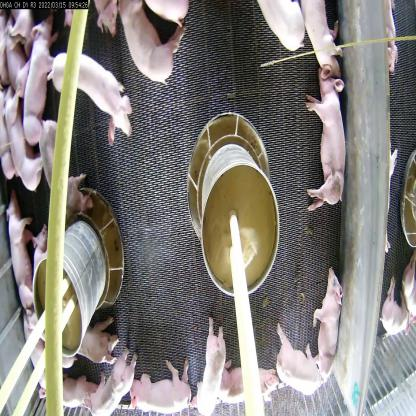Pig: (48, 46, 126, 140), (119, 0, 192, 88), (308, 65, 348, 225), (39, 110, 87, 236), (24, 13, 62, 156), (7, 83, 44, 195), (304, 0, 346, 98), (315, 267, 345, 382), (220, 353, 279, 409), (128, 360, 186, 415), (273, 335, 319, 403), (68, 313, 116, 371), (6, 206, 32, 309), (92, 360, 139, 415), (193, 324, 221, 410), (0, 9, 25, 87)
